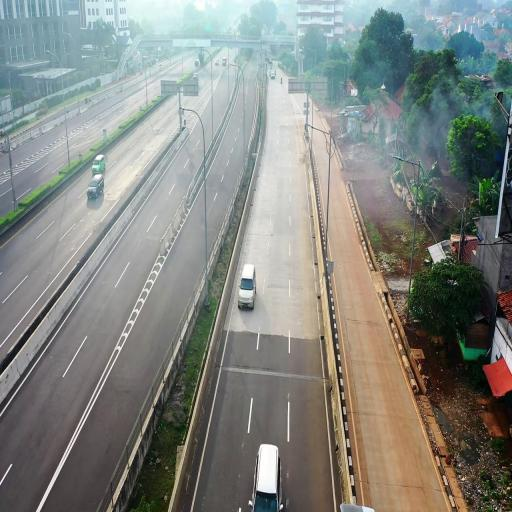vehicle: (249, 444, 283, 511), (238, 264, 256, 308), (87, 174, 103, 198), (92, 155, 105, 174), (340, 504, 374, 511), (194, 59, 200, 68), (222, 57, 227, 66), (270, 71, 275, 79), (215, 59, 219, 66), (193, 73, 197, 79), (269, 59, 272, 65), (281, 78, 282, 83)
